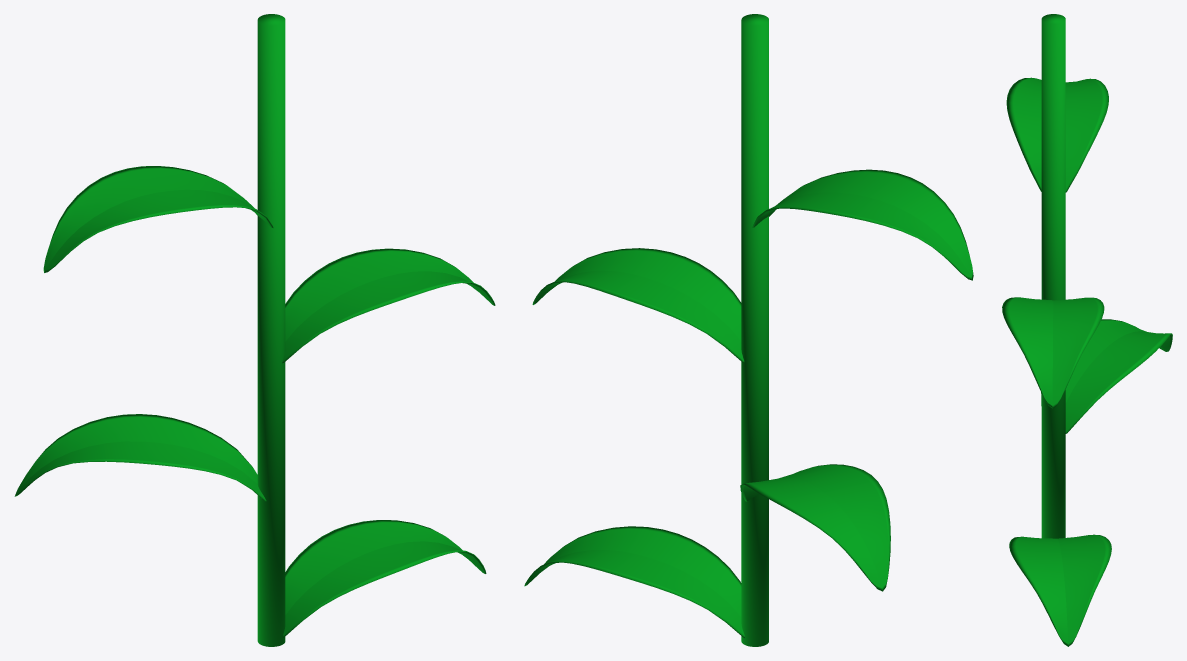
The model's file is EmptyPlant1.fbx.
The picture shows the model from 3 angles, left to right: view 1: azimuth 30°, elevation 25°; view 2: azimuth 150°, elevation 25°; view 3: azimuth 270°, elevation 25°; orthographic projection. The views are drawn at different scales.
Visible parts, largest first — view 1: EmptyPlant1; view 2: EmptyPlant1; view 3: EmptyPlant1.
Part boxes in pixels (<box>): EmptyPlant1: <box>14,14,495,646</box>; EmptyPlant1: <box>524,14,973,646</box>; EmptyPlant1: <box>1002,14,1172,646</box>.
Bounding box in the file's own units: 2.26 × 0.8654 × 3.02.
